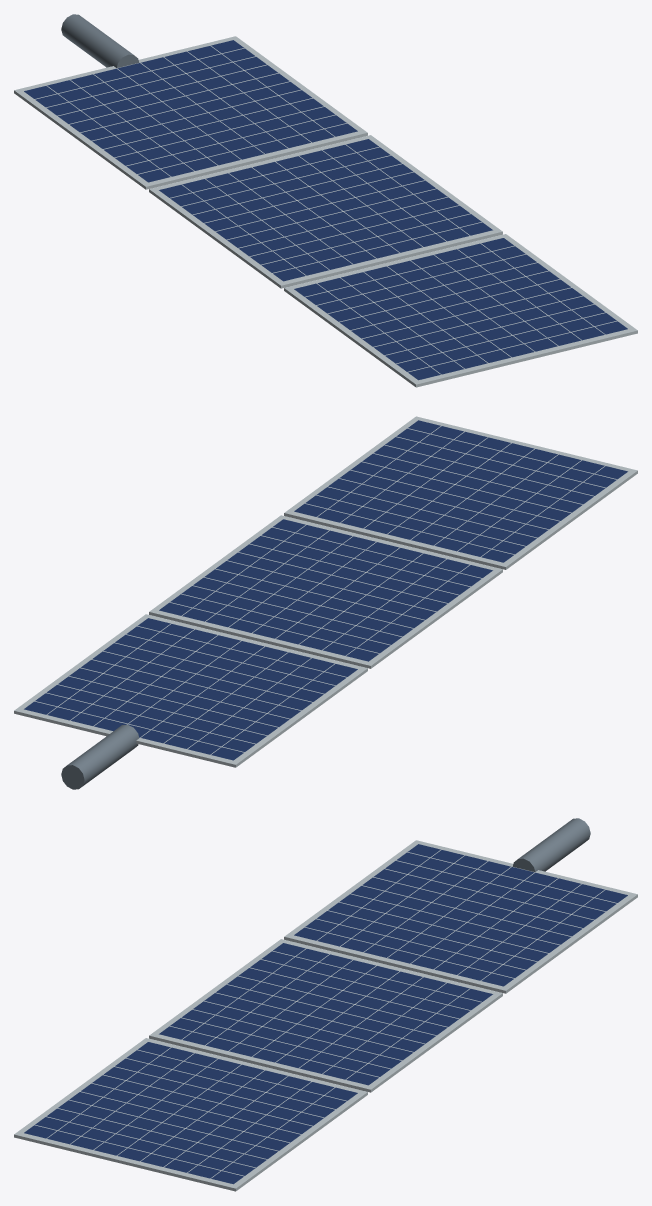
File: orion_esm.wing_04.glb
3 views of the same model, one above another, from view 1: azimuth 30°, elevation 25°; view 2: azimuth 150°, elevation 25°; view 3: azimuth 330°, elevation 25° (orthographic).
Parts seen in each view (by area): view 1: orion_esm.wing_04.panel_01.panel_02.panel_03.cells.mesh_Indi, orion_esm.wing_04.panel_01.cells.mesh_Indigo_solar_cells, orion_esm.wing_04.panel_01.panel_02.cells.mesh_Indigo_solar_, orion_esm.wing_04.panel_01.panel_02.panel_03.cells.mesh_Sati, orion_esm.wing_04.panel_01.panel_02.cells.mesh_Satin_aluminu, orion_esm.wing_04.panel_01.cells.mesh_Satin_aluminum, orion_esm.wing_04.mesh_Machined_steel; view 2: orion_esm.wing_04.panel_01.panel_02.panel_03.cells.mesh_Indi, orion_esm.wing_04.panel_01.panel_02.cells.mesh_Indigo_solar_, orion_esm.wing_04.panel_01.cells.mesh_Indigo_solar_cells, orion_esm.wing_04.panel_01.panel_02.cells.mesh_Satin_aluminu, orion_esm.wing_04.panel_01.panel_02.panel_03.cells.mesh_Sati, orion_esm.wing_04.panel_01.cells.mesh_Satin_aluminum, orion_esm.wing_04.mesh_Machined_steel; view 3: orion_esm.wing_04.panel_01.panel_02.panel_03.cells.mesh_Indi, orion_esm.wing_04.panel_01.cells.mesh_Indigo_solar_cells, orion_esm.wing_04.panel_01.panel_02.cells.mesh_Indigo_solar_, orion_esm.wing_04.panel_01.panel_02.panel_03.cells.mesh_Sati, orion_esm.wing_04.panel_01.panel_02.cells.mesh_Satin_aluminu, orion_esm.wing_04.panel_01.cells.mesh_Satin_aluminum, orion_esm.wing_04.mesh_Machined_steel.
Boxes of the visible parts, box(x1,y1,x2,y2) form: orion_esm.wing_04.panel_01.panel_02.panel_03.cells.mesh_Indi: box(294, 238, 627, 380); orion_esm.wing_04.panel_01.cells.mesh_Indigo_solar_cells: box(24, 40, 357, 182); orion_esm.wing_04.panel_01.panel_02.cells.mesh_Indigo_solar_: box(159, 139, 492, 281); orion_esm.wing_04.panel_01.panel_02.panel_03.cells.mesh_Sati: box(284, 234, 637, 387); orion_esm.wing_04.panel_01.panel_02.cells.mesh_Satin_aluminu: box(149, 135, 502, 288); orion_esm.wing_04.panel_01.cells.mesh_Satin_aluminum: box(14, 36, 367, 189); orion_esm.wing_04.mesh_Machined_steel: box(61, 14, 139, 67); orion_esm.wing_04.panel_01.panel_02.panel_03.cells.mesh_Indi: box(294, 420, 627, 562); orion_esm.wing_04.panel_01.panel_02.cells.mesh_Indigo_solar_: box(159, 519, 492, 661); orion_esm.wing_04.panel_01.cells.mesh_Indigo_solar_cells: box(24, 618, 357, 760); orion_esm.wing_04.panel_01.panel_02.cells.mesh_Satin_aluminu: box(149, 515, 502, 668); orion_esm.wing_04.panel_01.panel_02.panel_03.cells.mesh_Sati: box(284, 416, 637, 569); orion_esm.wing_04.panel_01.cells.mesh_Satin_aluminum: box(14, 614, 367, 767); orion_esm.wing_04.mesh_Machined_steel: box(61, 724, 138, 789); orion_esm.wing_04.panel_01.panel_02.panel_03.cells.mesh_Indi: box(24, 1042, 357, 1184); orion_esm.wing_04.panel_01.cells.mesh_Indigo_solar_cells: box(294, 844, 627, 986); orion_esm.wing_04.panel_01.panel_02.cells.mesh_Indigo_solar_: box(159, 943, 492, 1085); orion_esm.wing_04.panel_01.panel_02.panel_03.cells.mesh_Sati: box(14, 1038, 367, 1191); orion_esm.wing_04.panel_01.panel_02.cells.mesh_Satin_aluminu: box(149, 939, 502, 1092); orion_esm.wing_04.panel_01.cells.mesh_Satin_aluminum: box(284, 840, 637, 993); orion_esm.wing_04.mesh_Machined_steel: box(512, 818, 590, 871).
Size of the model in its own units: 1.65 by 0.174 by 5.85.
